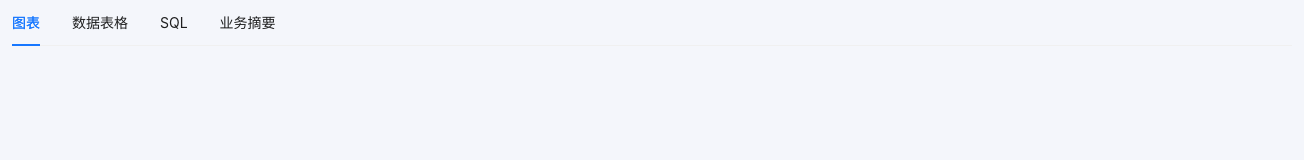
Scenario: ResultTabs › SQL Tab 展示带高亮的 SQL 文本
Click the tab "SQL".
click(174, 23)  # box [160,12,188,34]
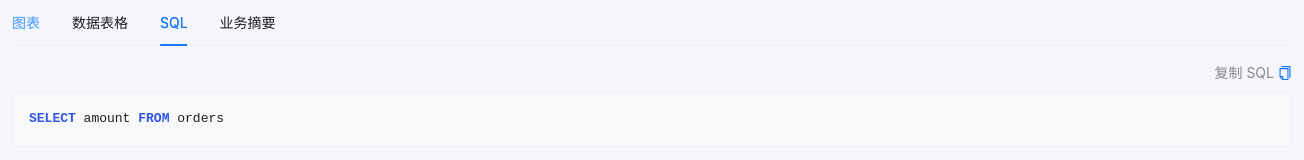
Now the text "SELECT" is shown, box [29,111,76,126]
Now the text "SELECT amount FROM orders" is shown, box [29,111,224,126]
